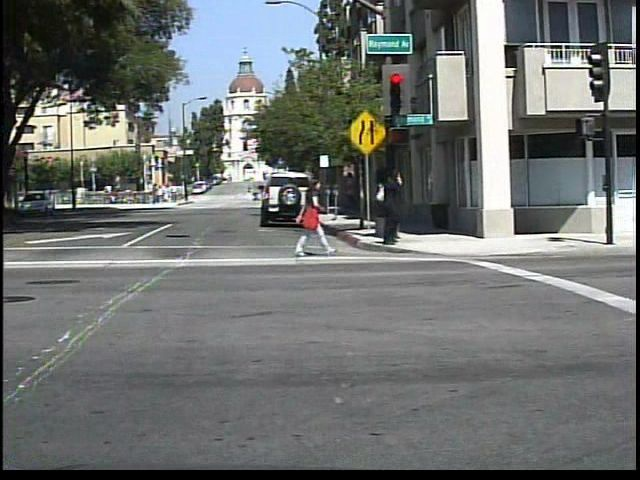person: (368, 164, 412, 250), (291, 172, 333, 256), (252, 188, 263, 204)
